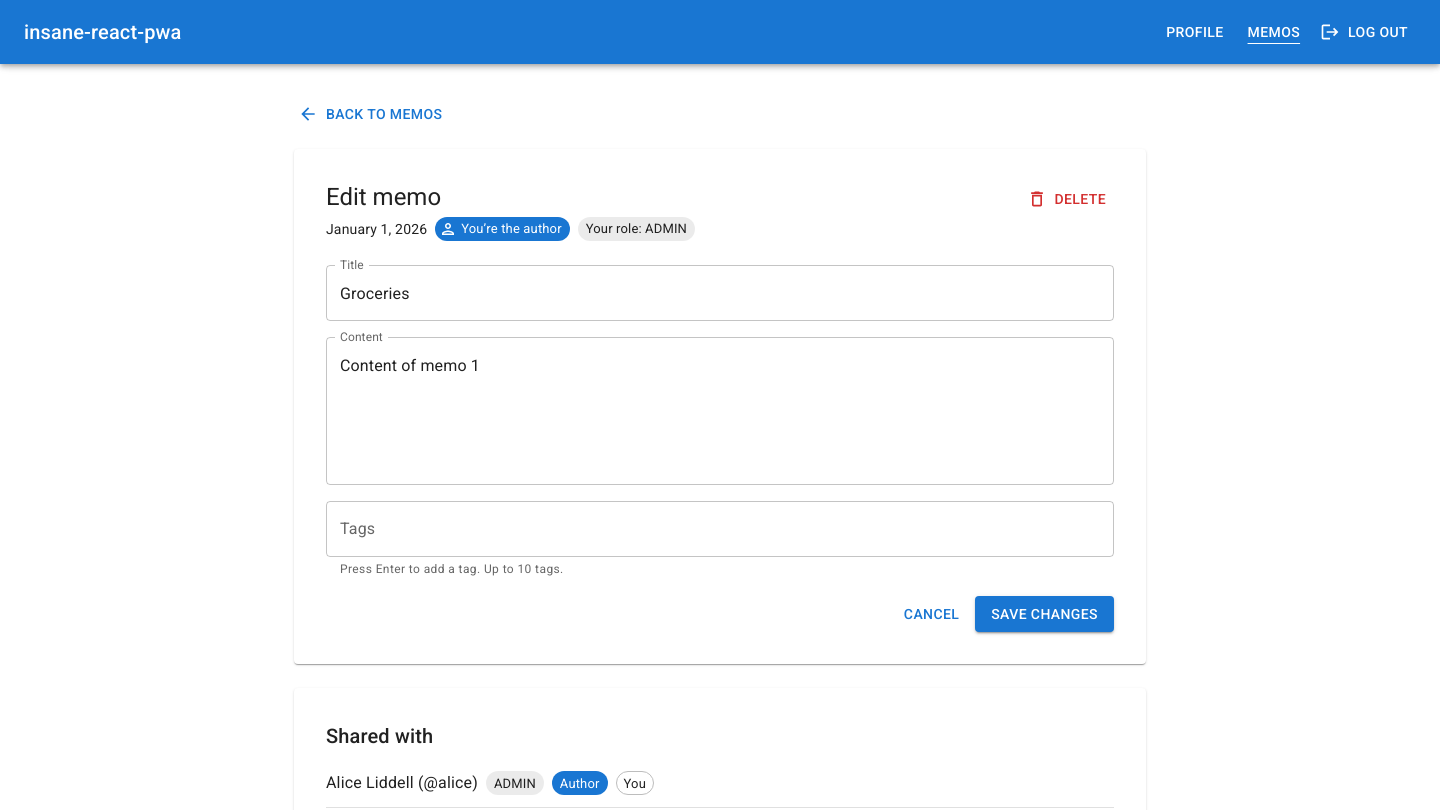
MemoEditorPage › stays on the memo when deleting is cancelled
Expected: the heading "Edit memo" is shown, [326,180,441,217]
Click the button "Delete".
click(1068, 199)  # box [1022,180,1114,217]
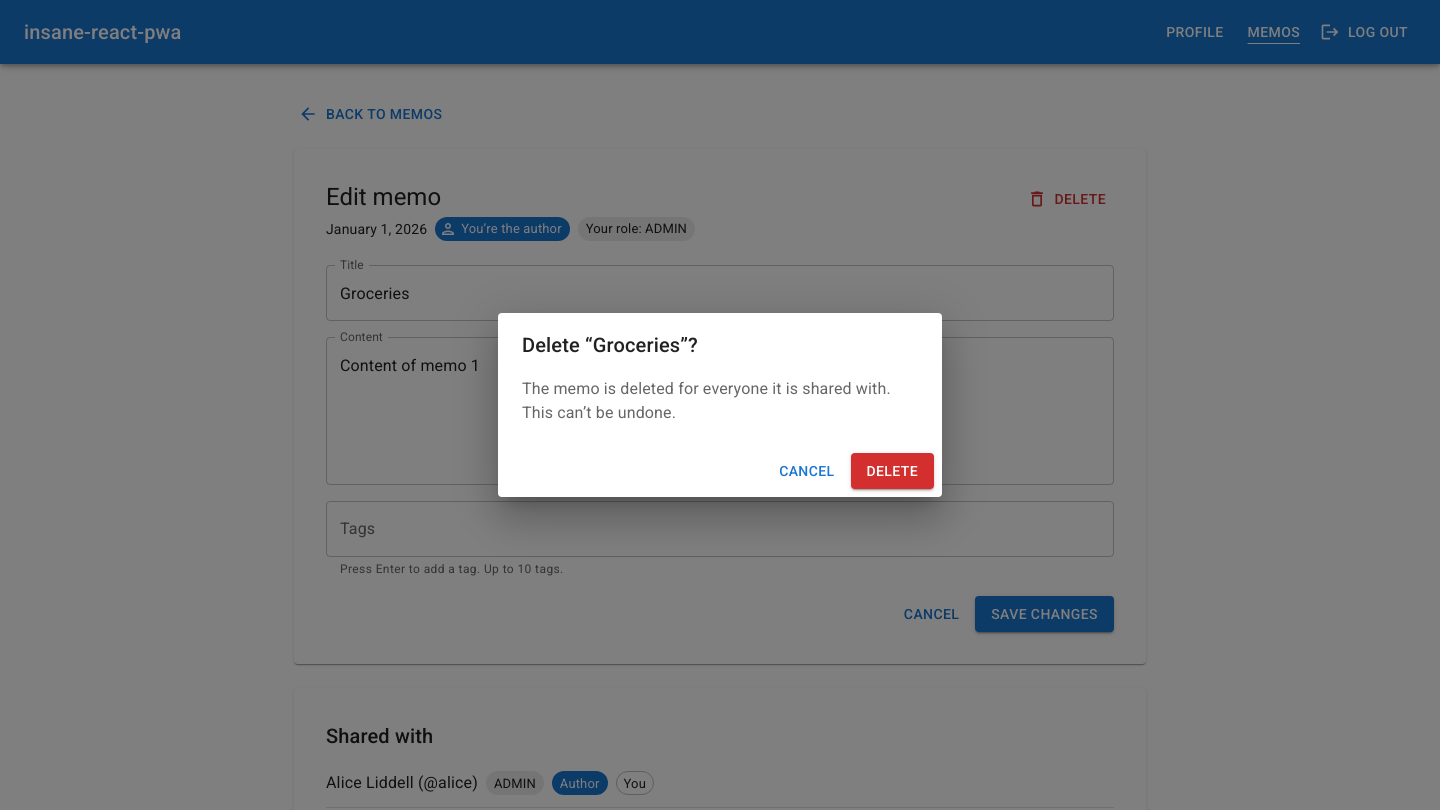
Click the button "Cancel".
click(807, 471)  # box [771,453,842,489]
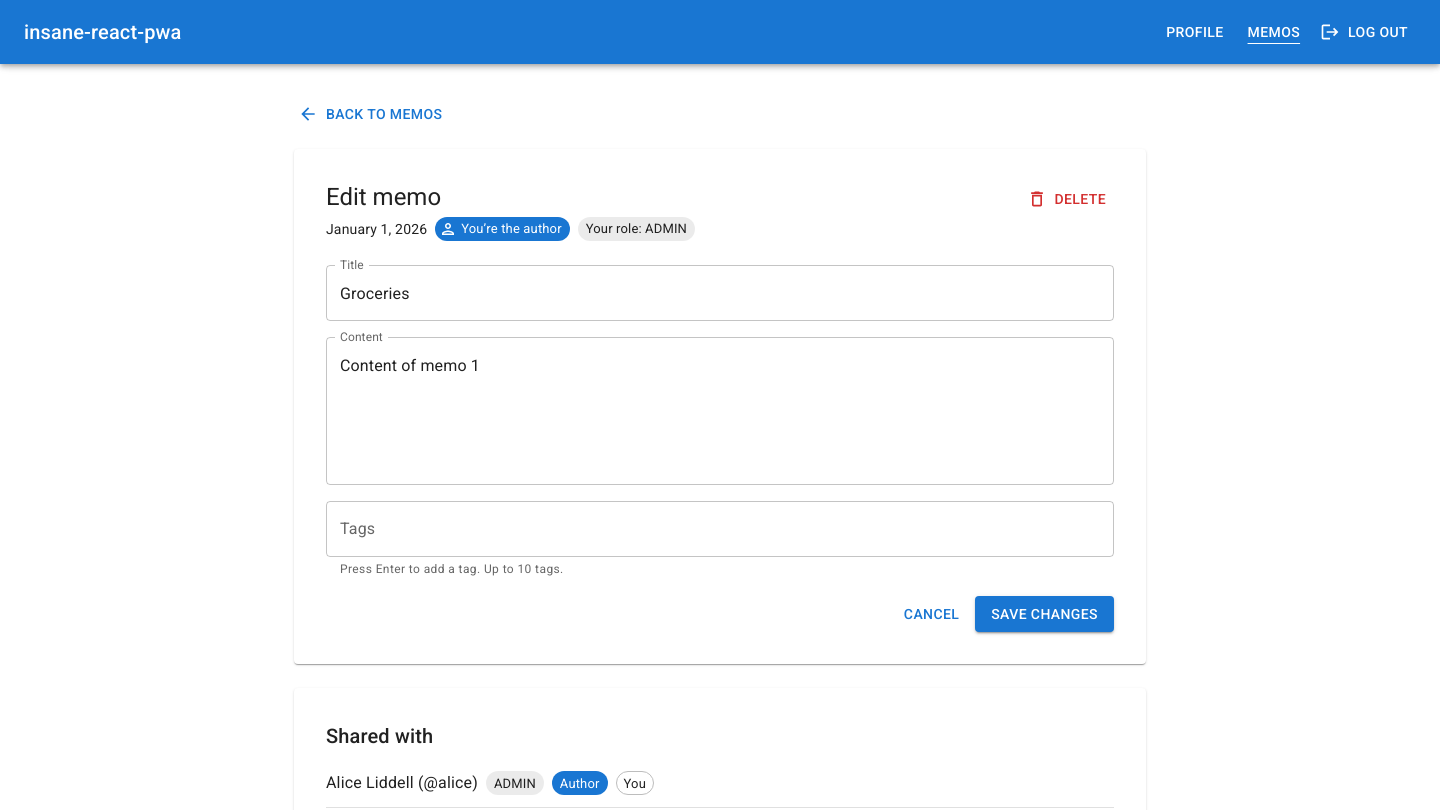
Expected: the field labelled "Title" holds "Groceries", [326,265,1114,321]
Expected: the dialog is gone
